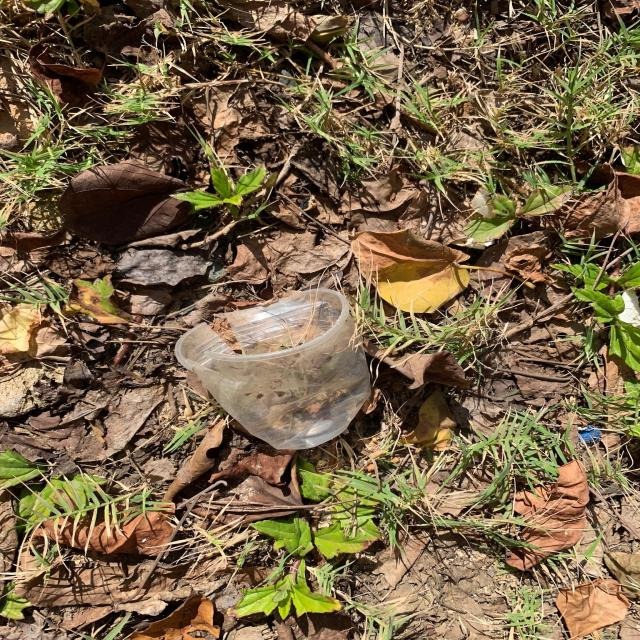litter: (161, 278, 382, 456)
